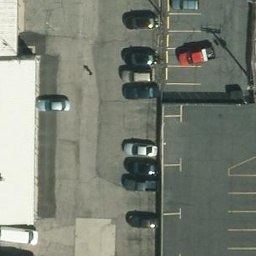car: (118, 47, 160, 64), (1, 228, 37, 245), (123, 13, 157, 31), (178, 46, 212, 64), (125, 213, 159, 230), (35, 95, 69, 112), (123, 141, 157, 158), (125, 158, 159, 175), (124, 176, 158, 193), (124, 82, 158, 99), (121, 66, 155, 83)
